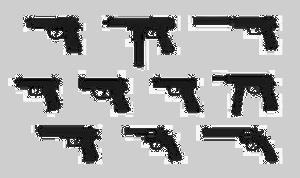handgun: (99, 10, 177, 69), (188, 9, 280, 54), (34, 118, 106, 167), (196, 120, 282, 161), (213, 70, 283, 118), (11, 72, 68, 118), (24, 14, 90, 53), (77, 70, 135, 114), (123, 117, 183, 158), (150, 73, 206, 113)
